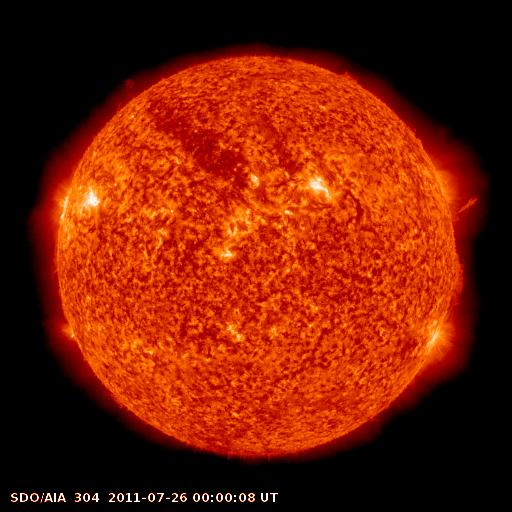prominence: (442, 253, 475, 312), (444, 186, 485, 227)
